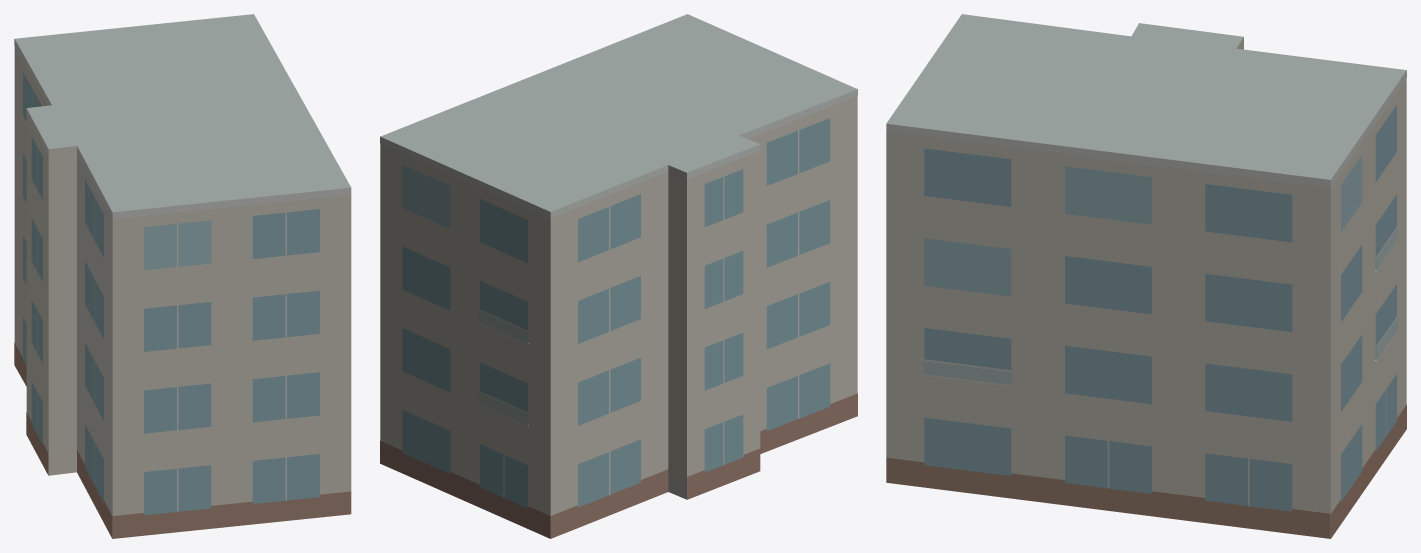
File: survey-upis-32874206.glb
The picture shows the model from 3 angles, left to right: view 1: azimuth 30°, elevation 25°; view 2: azimuth 150°, elevation 25°; view 3: azimuth 270°, elevation 25°; orthographic projection. The views are drawn at different scales.
Visible parts, largest first — view 1: survey-upis-32874206.tmp; view 2: survey-upis-32874206.tmp; view 3: survey-upis-32874206.tmp.
Part boxes in pixels (x1,y1,x2,y2): survey-upis-32874206.tmp: (14, 14, 351, 538); survey-upis-32874206.tmp: (380, 14, 857, 538); survey-upis-32874206.tmp: (886, 14, 1406, 538).
Bounding box in the file's own units: 11.41 × 11.5 × 15.13.
